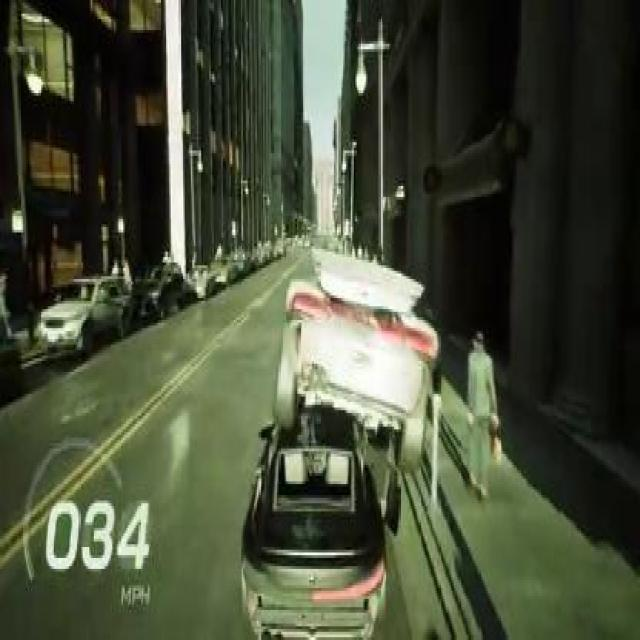accident: (237, 238, 445, 640)
